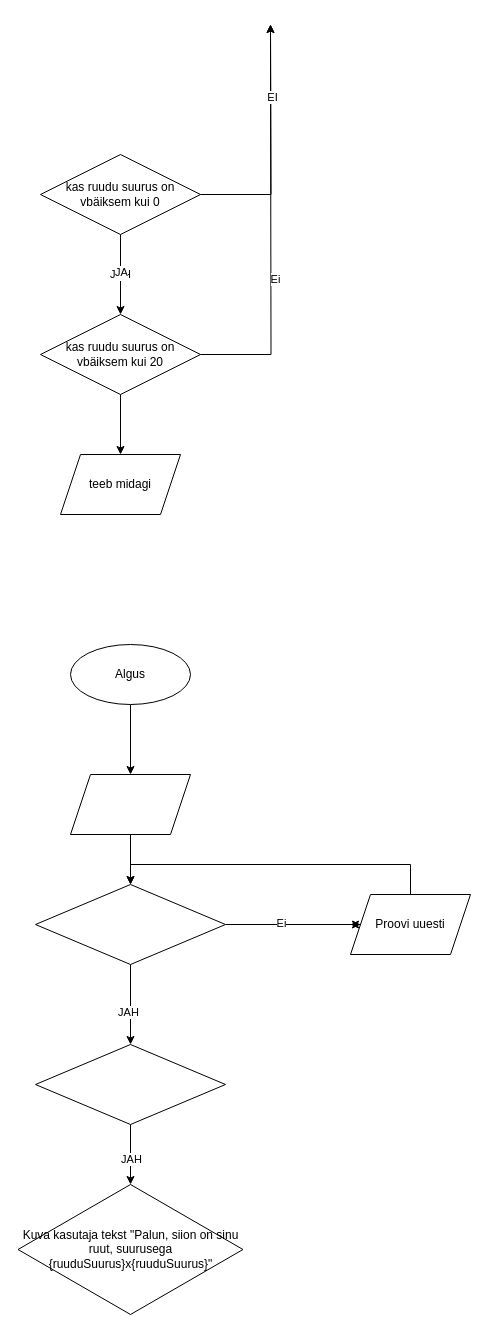
The diagram is 488 pixels wide and 1332 high, and some of its shapes have lost their labels. Here are the shapes that lost their labels. From the top down, the centre of each, then its label:
[130,804]: Kuva kasutaja tekst "palun sisesta oma kasutaja nimi"
[130,924]: Kas kasutaja on sisestanud oma nime "user1"
[130,1084]: Kas kasutaja on valinud mis suuruses ruutu sa tahad
